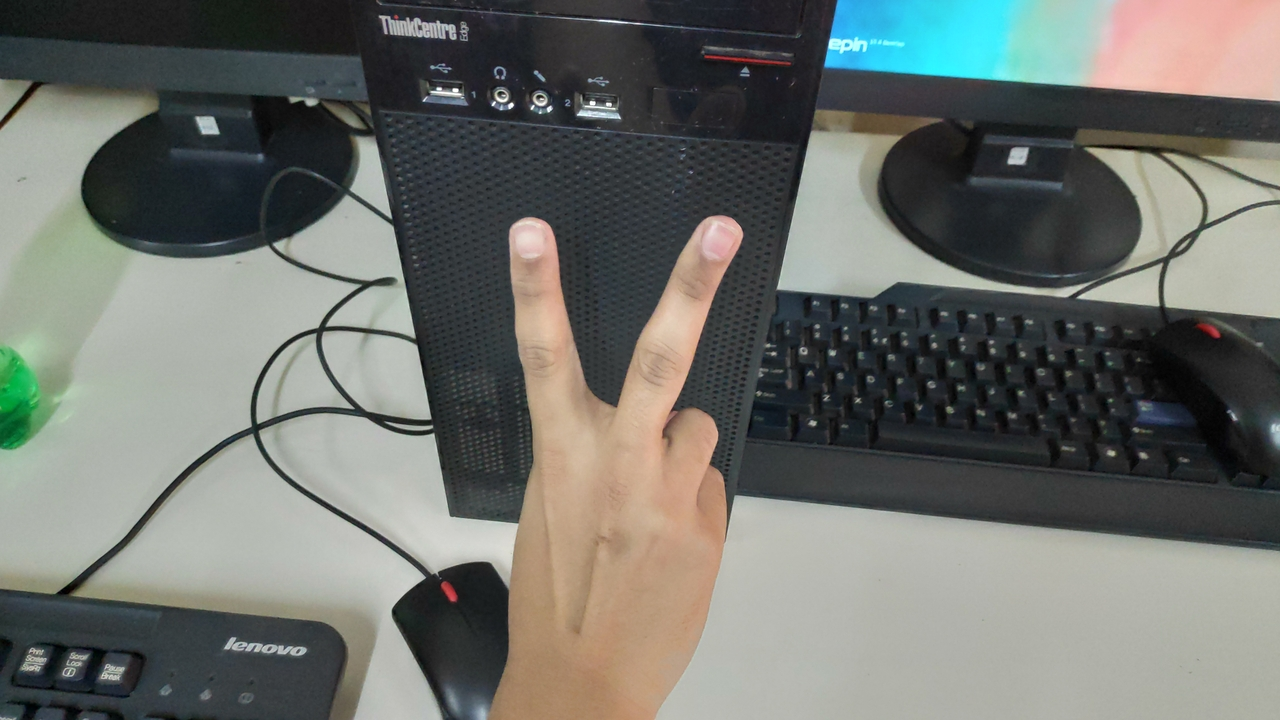fingertip: (678, 206, 752, 272), (498, 208, 564, 272)
